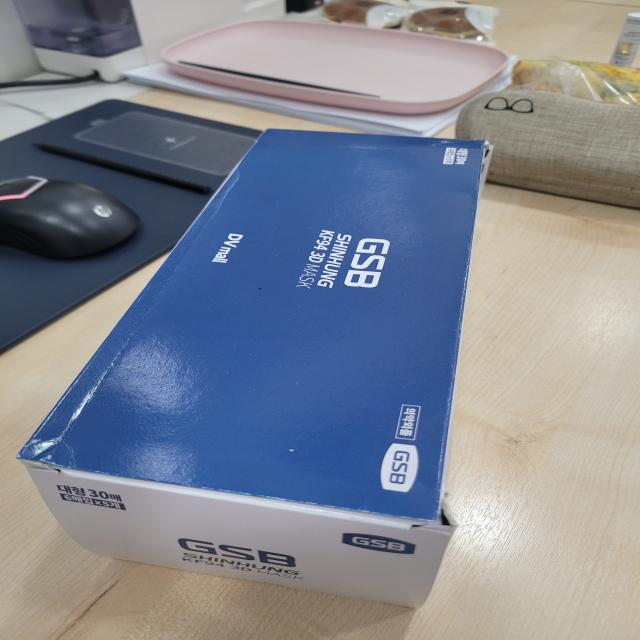mask: (15, 97, 549, 635)
